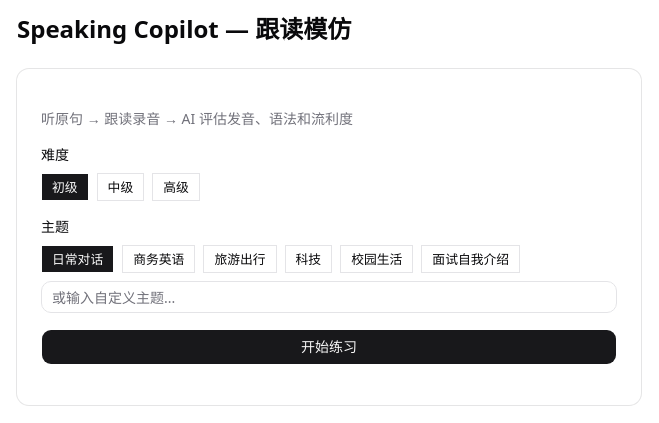
Test: SpeakingPage › shows completion button on last sentence
Click the button "开始练习" at (329, 347), box [41,329,617,365]
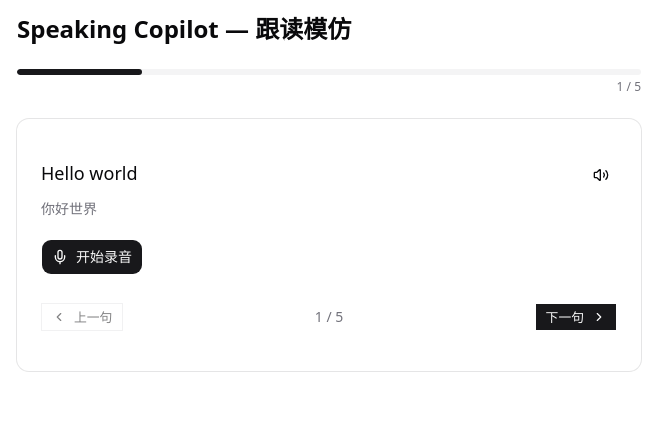
Check: the button "下一句" is shown
Click the button "下一句" at (576, 317), box [535,303,617,331]
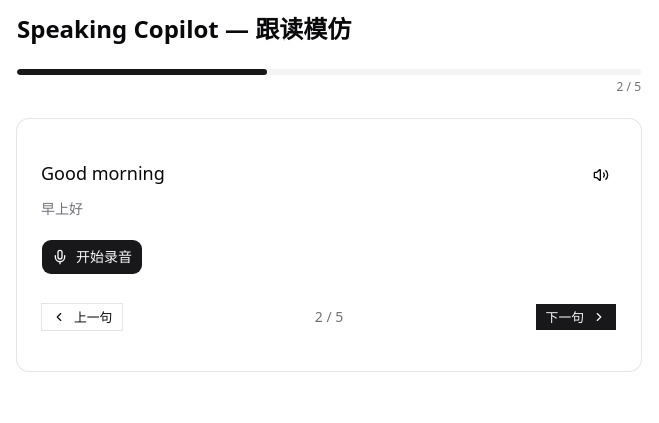
Click the button "下一句" at (576, 317), box [535,303,617,331]
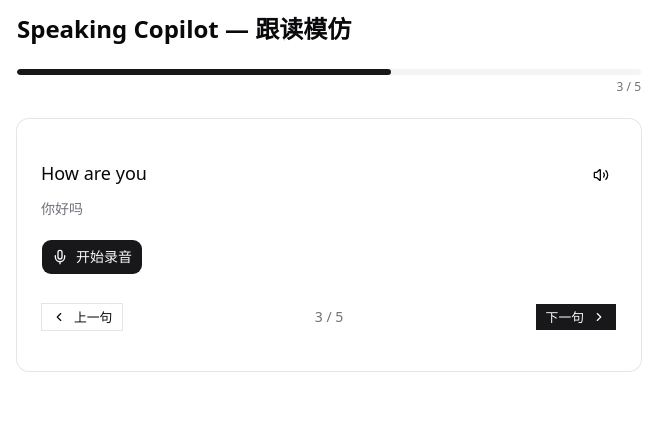
Click the button "下一句" at (576, 317), box [535,303,617,331]
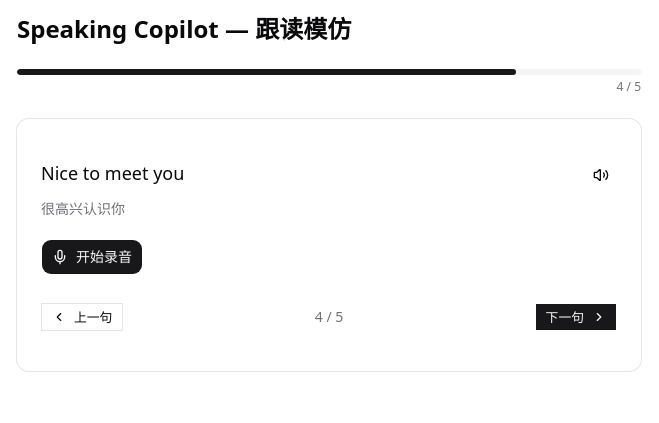
Click the button "下一句" at (576, 317), box [535,303,617,331]
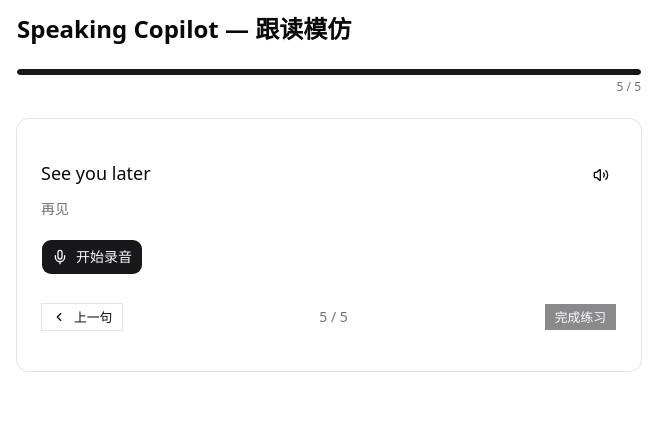
Check: the button "完成练习" is shown, box [544,303,617,331]
Check: the text "再见" is shown, box [41,199,69,218]
